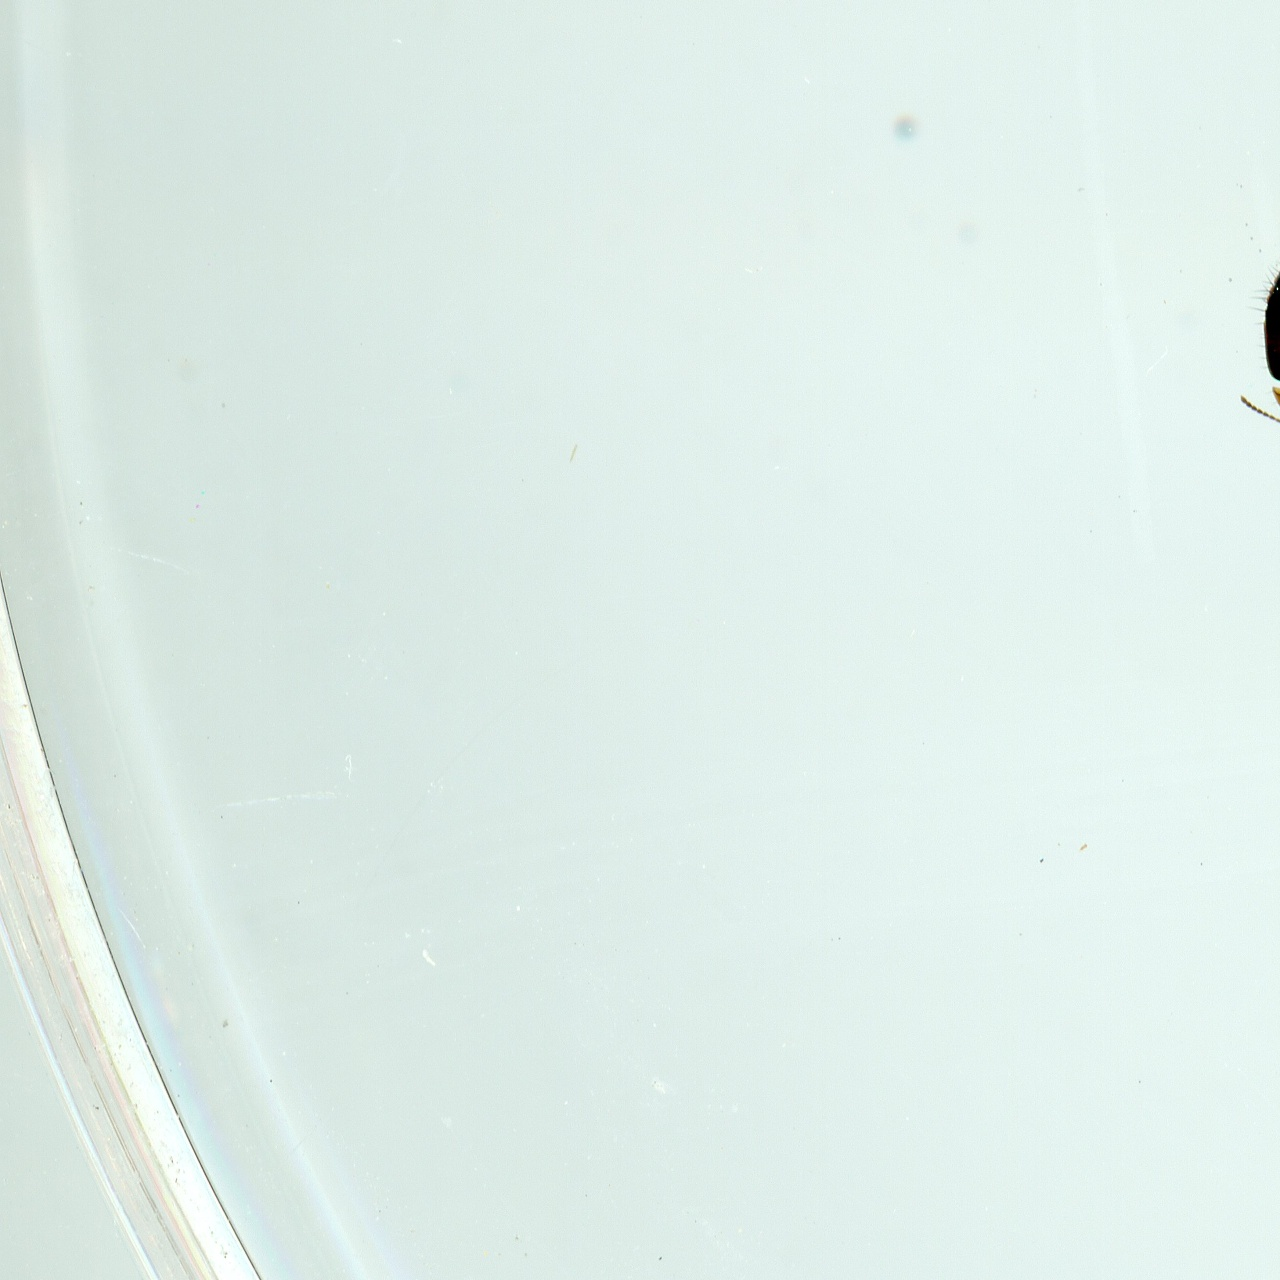arthropod: (1245, 223, 1280, 455)
